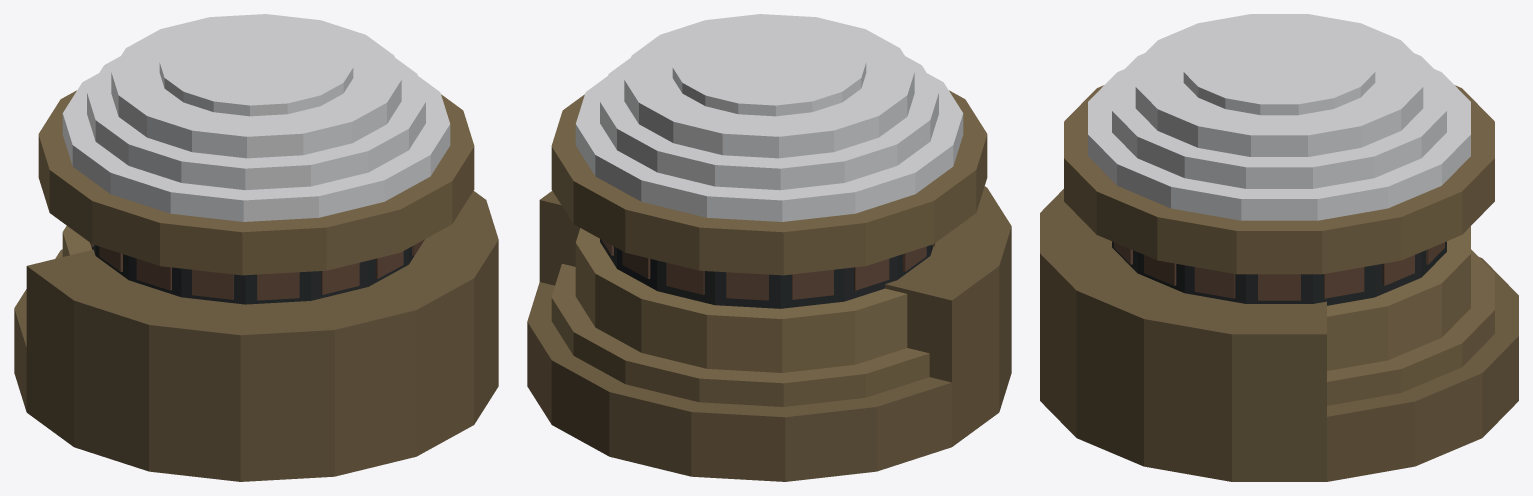
File: swd_head.obj
3 views of the same model, side by side, from view 1: azimuth 30°, elevation 25°; view 2: azimuth 150°, elevation 25°; view 3: azimuth 270°, elevation 25° (orthographic).
Visible parts, largest first — view 1: hexadecagon; view 2: hexadecagon; view 3: hexadecagon.
Part boxes in pixels (left/top/right/bottom): hexadecagon: left=14, top=14, right=498, bottom=481; hexadecagon: left=527, top=14, right=1011, bottom=481; hexadecagon: left=1040, top=14, right=1518, bottom=481.
Size of the model in its own units: 10 by 7.3 by 10.
